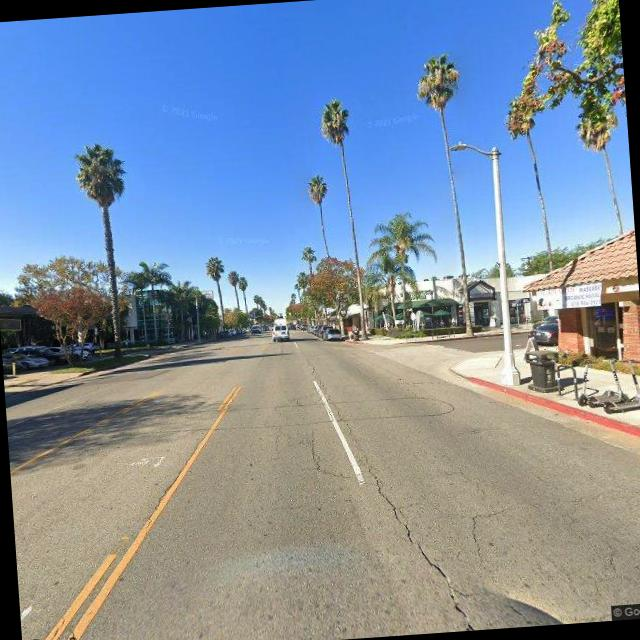pothole: (356, 454, 478, 634), (304, 428, 324, 474)
